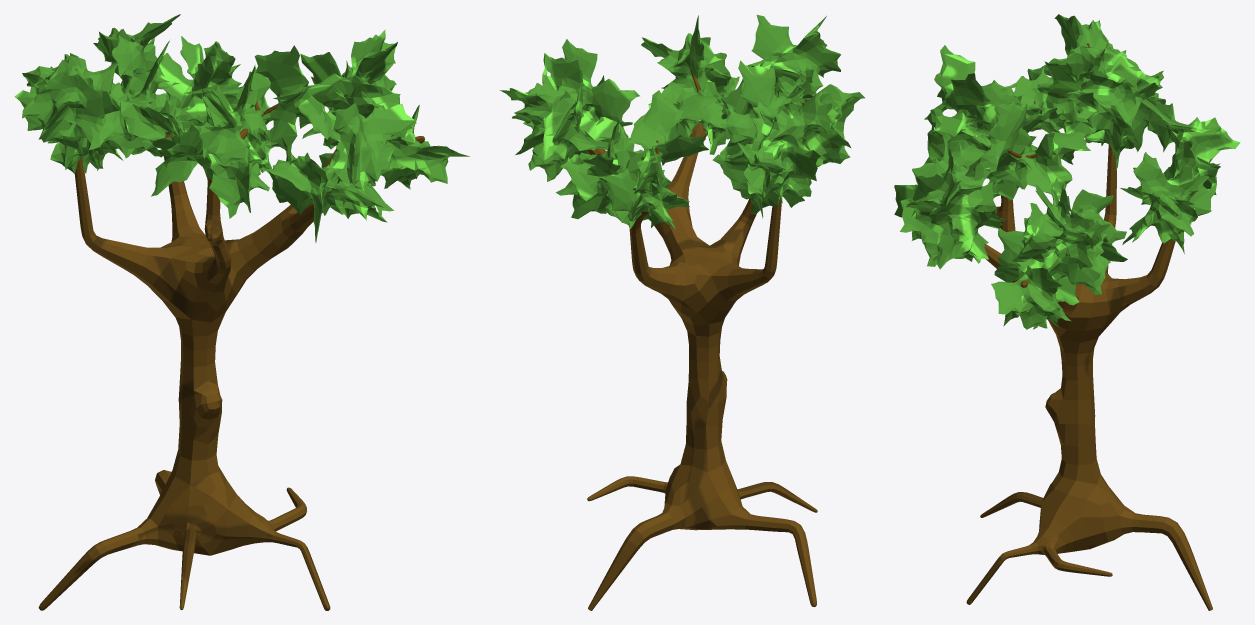
Rendered from arbol4.fbx.
3 renders of one model, left to right at view 1: azimuth 30°, elevation 25°; view 2: azimuth 150°, elevation 25°; view 3: azimuth 270°, elevation 25°, orthographic. The views are drawn at different scales.
Parts seen in each view (by area): view 1: Vert.003; view 2: Vert.003; view 3: Vert.003.
Boxes of the visible parts, <box> form: Vert.003: <box>14,14,469,610</box>; Vert.003: <box>499,14,864,610</box>; Vert.003: <box>894,14,1240,610</box>.
Size of the model in its own units: 604 by 716 by 993.
